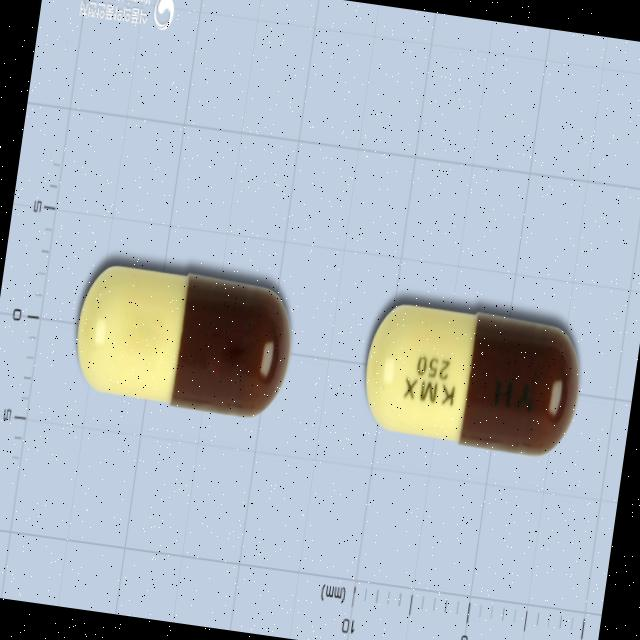Kymoxin Cap: (356, 297, 588, 463), (68, 258, 300, 422)
